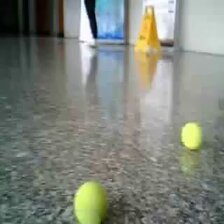tennis: (73, 181, 111, 224), (180, 122, 204, 152)
